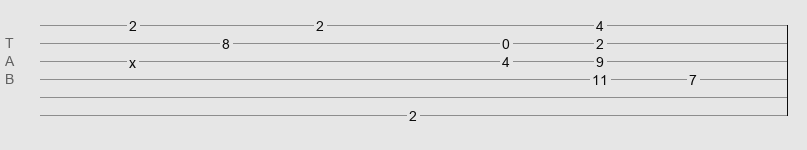0: (502, 36, 510, 46)
11: (592, 72, 608, 82)
2: (129, 18, 137, 28), (316, 18, 324, 28), (409, 108, 417, 118), (596, 36, 604, 46)
4: (502, 54, 510, 64), (596, 18, 604, 28)
7: (689, 72, 697, 82)
8: (222, 36, 230, 46)
9: (596, 54, 604, 64)
x: (129, 55, 136, 63)
